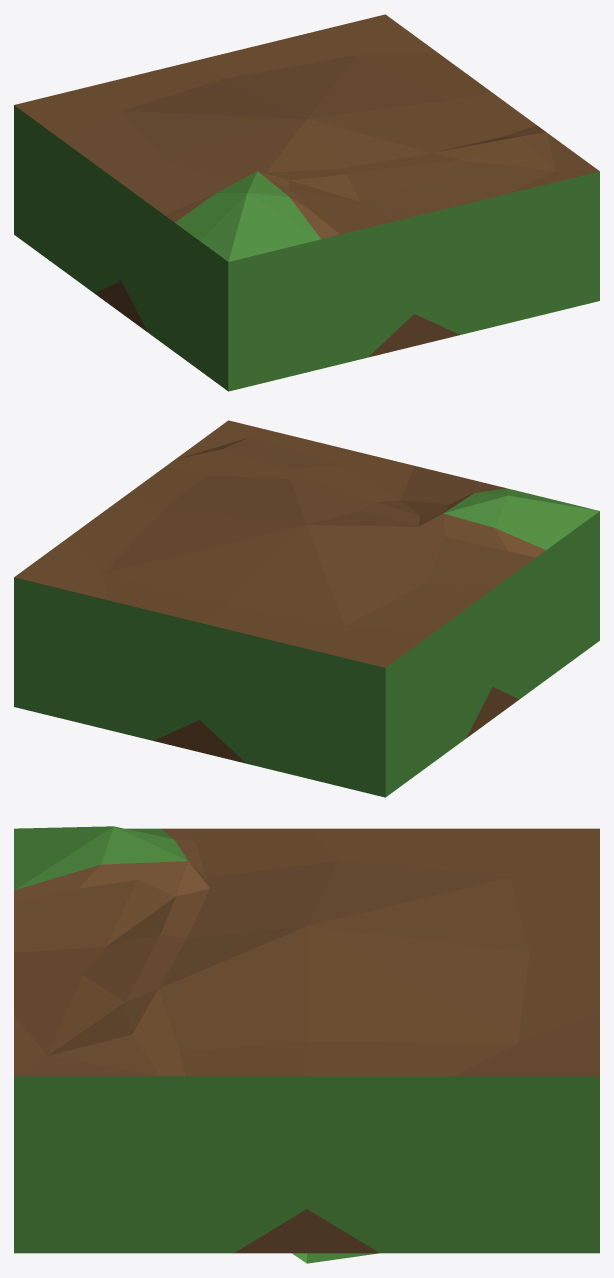
Rendered from grass_dirt_corner_1.fbx.
The picture shows the model from 3 angles, top to bottom: view 1: azimuth 30°, elevation 25°; view 2: azimuth 150°, elevation 25°; view 3: azimuth 270°, elevation 25°; orthographic projection. The views are drawn at different scales.
Parts seen in each view (by area): view 1: Dirt_Grass_Corner_1; view 2: Dirt_Grass_Corner_1; view 3: Dirt_Grass_Corner_1.
Part boxes in pixels (box(x1,y1,x2,y2)): Dirt_Grass_Corner_1: box(14, 14, 599, 391); Dirt_Grass_Corner_1: box(14, 420, 599, 797); Dirt_Grass_Corner_1: box(14, 826, 599, 1263).
Bounding box in the file's own units: 300 × 146 × 300.
